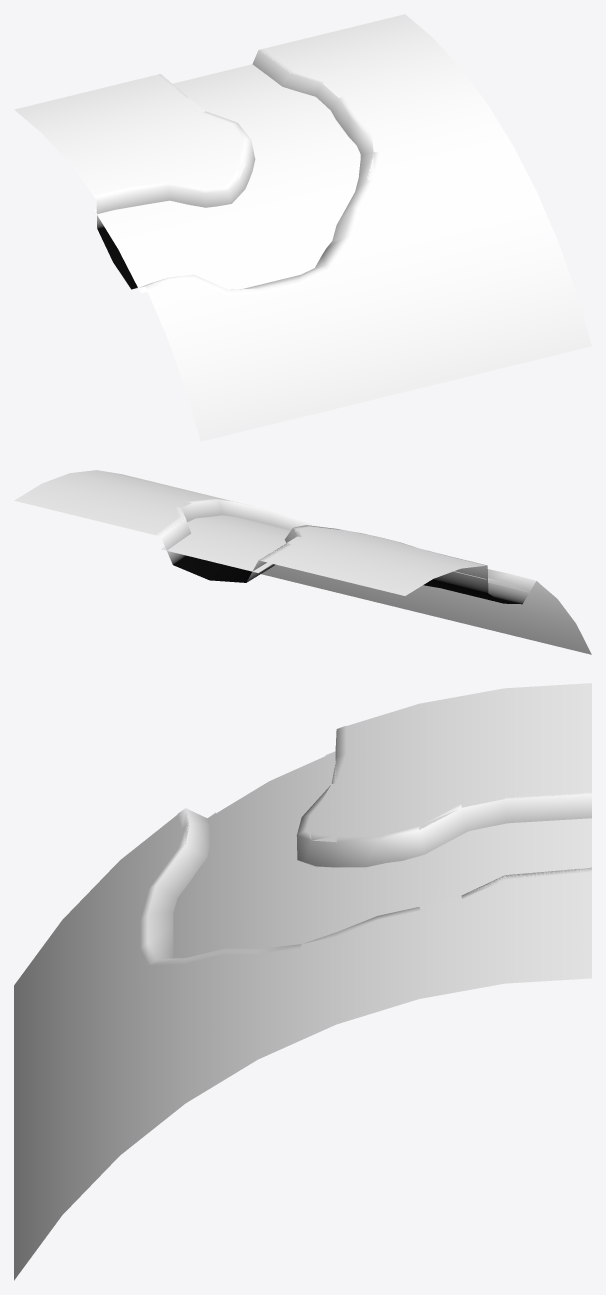
Rendered from grd_Ren_2.dae.
3 renders of one model, top to bottom at view 1: azimuth 30°, elevation 25°; view 2: azimuth 150°, elevation 25°; view 3: azimuth 270°, elevation 25°, orthographic. The views are drawn at different scales.
Visible parts, largest first — view 1: grass1_1_0, river_2_0, cliff_river_0_0, river_edge_3_0; view 2: grass1_1_0, cliff_river_0_0, river_2_0, river_edge_3_0; view 3: grass1_1_0, river_2_0, cliff_river_0_0, river_edge_3_0.
Part boxes in pixels (x1,y1,x2,y2): grass1_1_0: (14,14,591,441); river_2_0: (94,64,360,292); cliff_river_0_0: (93,48,379,295); river_edge_3_0: (94,67,360,293); grass1_1_0: (14,470,591,654); cliff_river_0_0: (155,498,538,604); river_2_0: (161,515,531,593); river_edge_3_0: (161,515,530,593); grass1_1_0: (14,683,591,1280); river_2_0: (173,752,591,957); cliff_river_0_0: (140,726,591,965); river_edge_3_0: (173,751,529,958).
Bounding box in the file's own units: 512 × 244 × 423.
4 materials, 1 textured.
